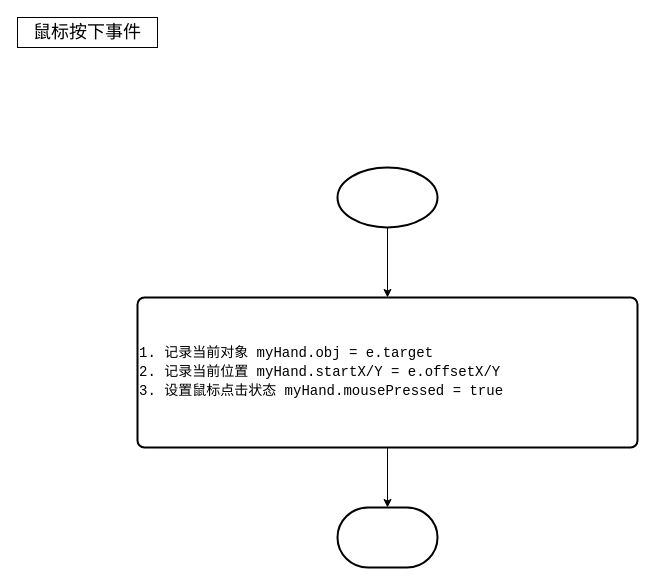
Image size: 656x586. Some labels were removed from this diagram. Each missing label, with the centre of its shape:
开始: point 387,197
结束: point 387,537
